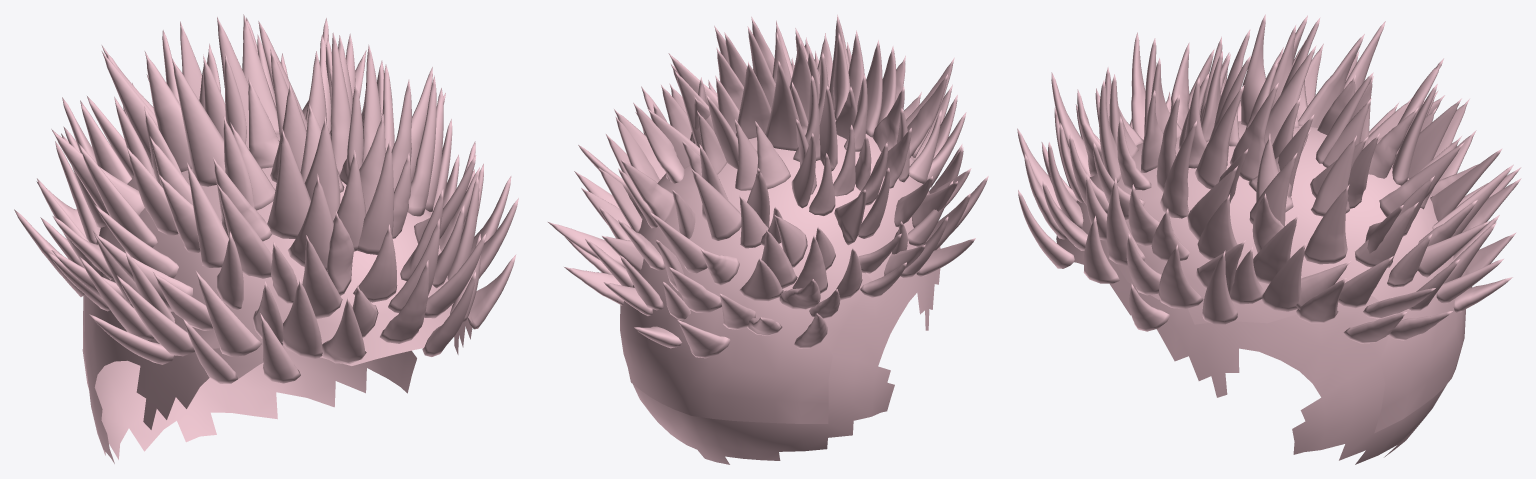
The model's file is hair_anime_male_short_spiky.glb.
3 renders of one model, left to right at view 1: azimuth 30°, elevation 25°; view 2: azimuth 150°, elevation 25°; view 3: azimuth 270°, elevation 25°, orthographic. The views are drawn at different scales.
Visible parts, largest first — view 1: AM_Hair_ShortSpiky.001; view 2: AM_Hair_ShortSpiky.001; view 3: AM_Hair_ShortSpiky.001.
Part boxes in pixels (x1=…): AM_Hair_ShortSpiky.001: x1=14, y1=14, x2=518, y2=463; AM_Hair_ShortSpiky.001: x1=548, y1=14, x2=988, y2=464; AM_Hair_ShortSpiky.001: x1=1017, y1=14, x2=1521, y2=464.
Bounding box in the file's own units: 0.2238 × 0.2365 × 0.2644.
